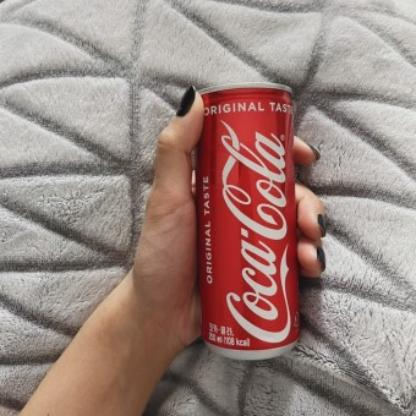Can: (196, 83, 294, 361)
